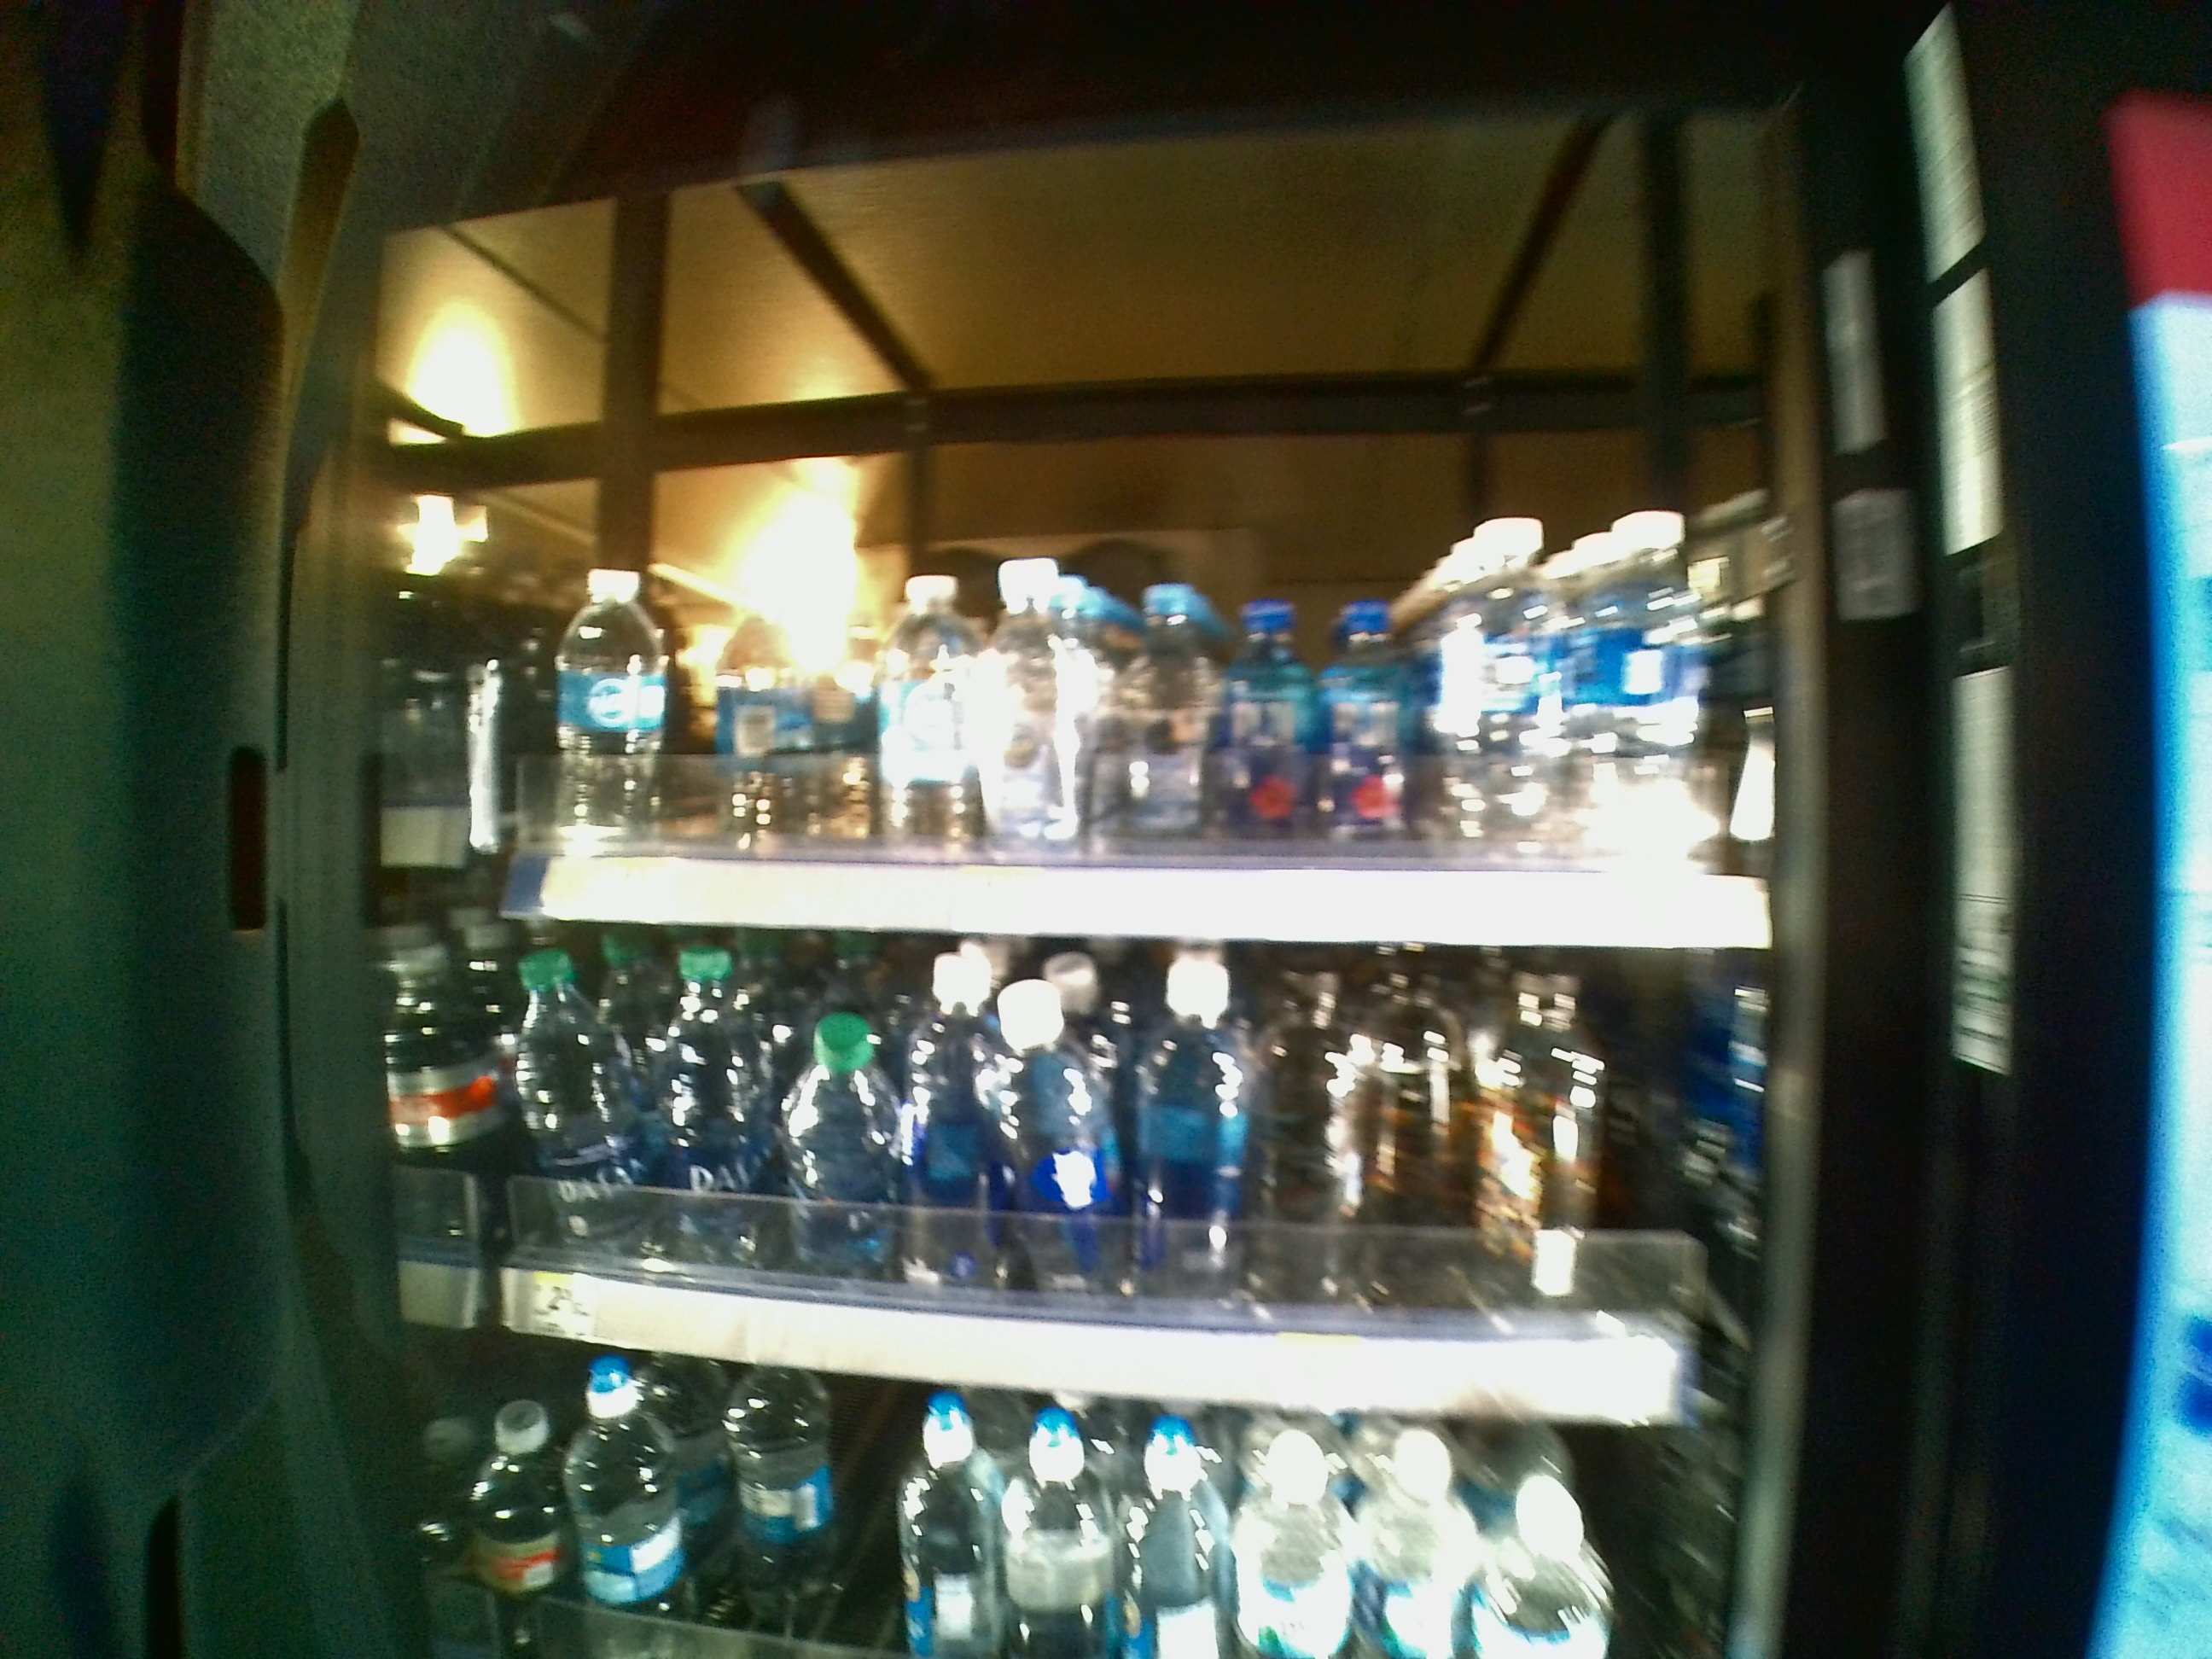Shelf: (446, 211, 1785, 948), (444, 948, 1787, 1431)
